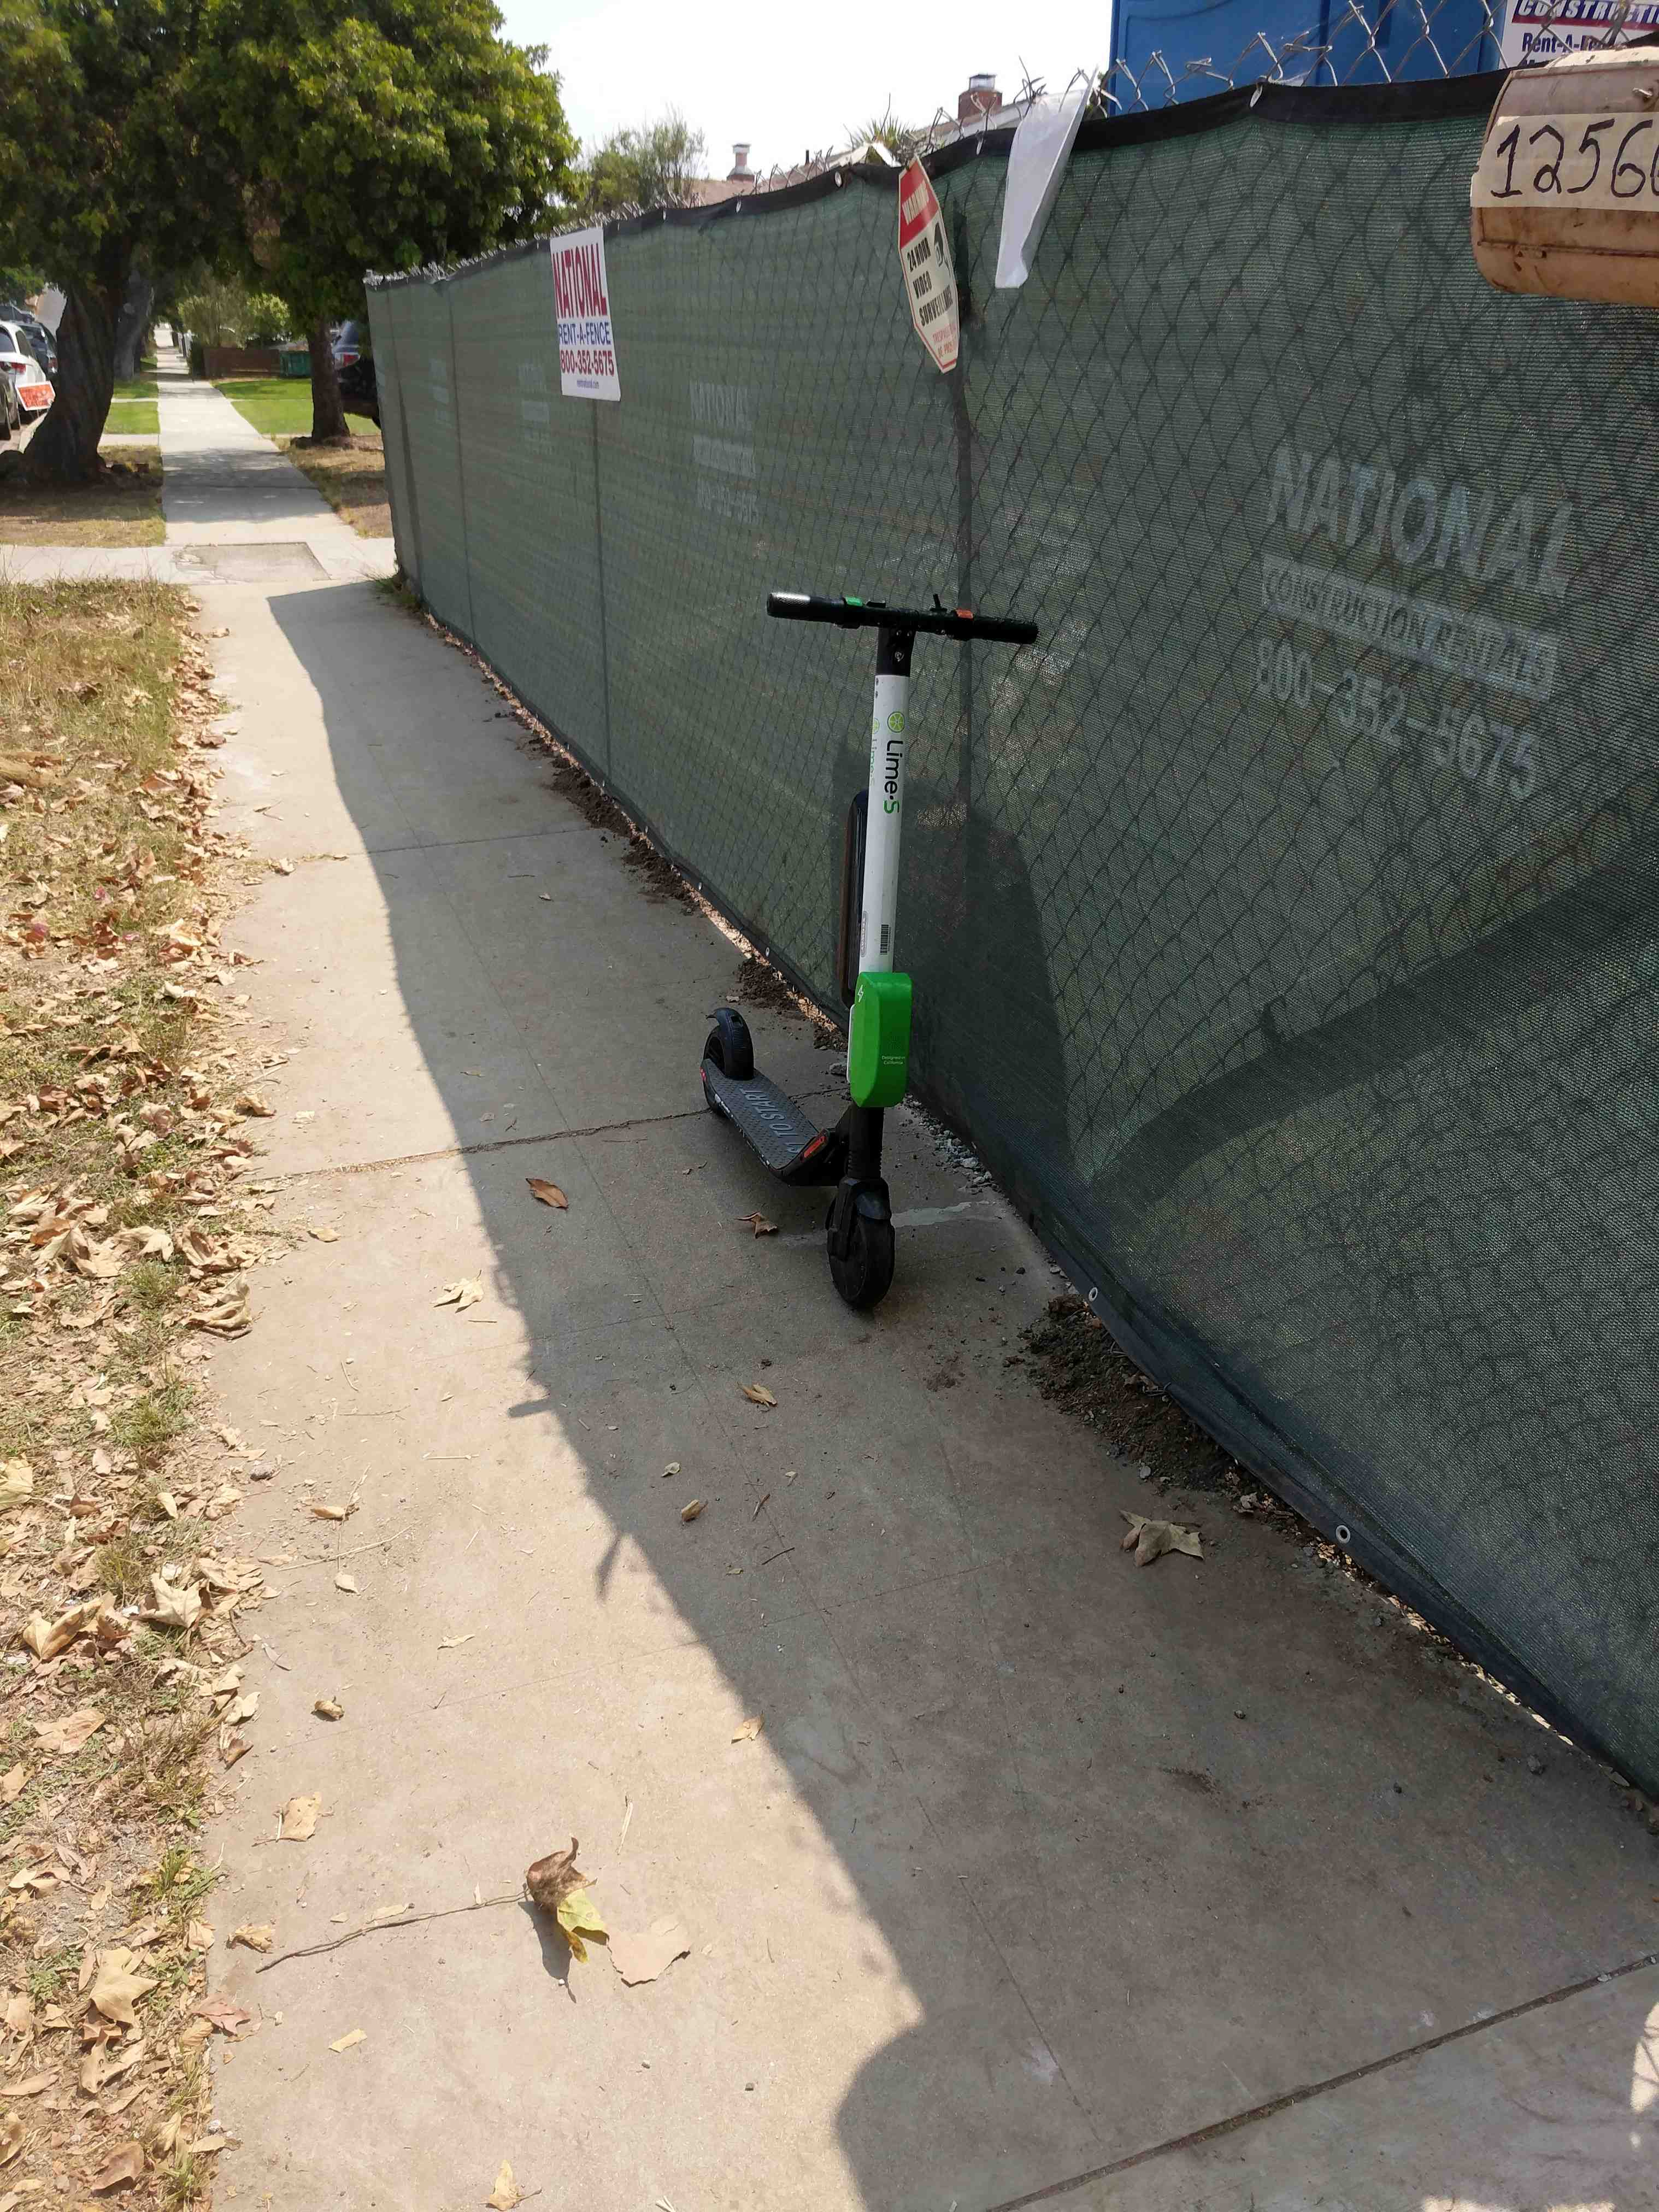scooter: (695, 573, 1100, 1355)
